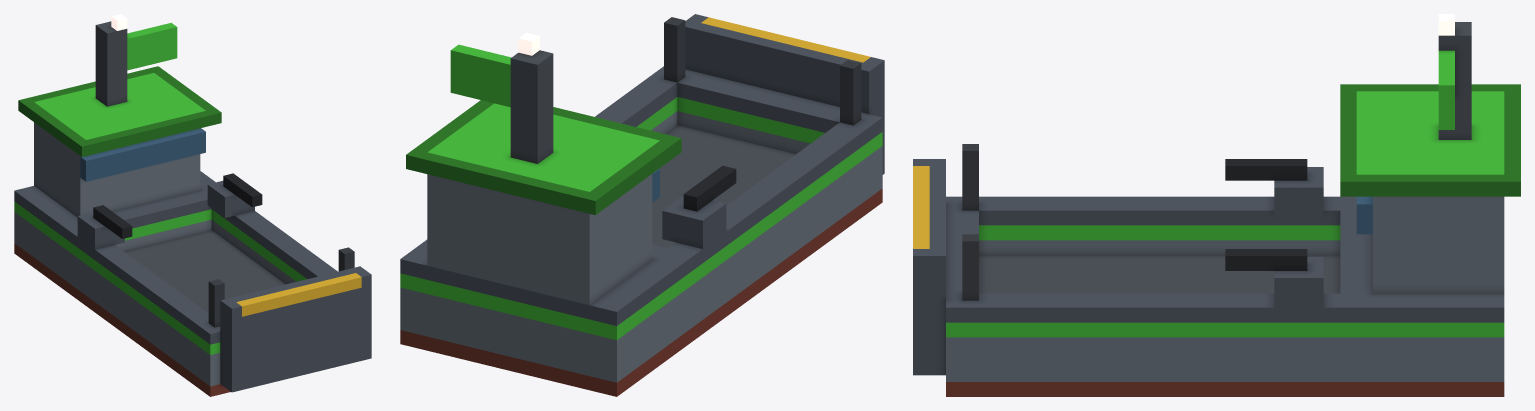
The model's file is cm_transport_3.glb.
3 views of the same model, side by side, from view 1: azimuth 30°, elevation 25°; view 2: azimuth 150°, elevation 25°; view 3: azimuth 270°, elevation 25° (orthographic). The views are drawn at different scales.
Parts seen in each view (by area): view 1: cm_transport_3_body; view 2: cm_transport_3_body; view 3: cm_transport_3_body.
Boxes of the visible parts, <box> form: cm_transport_3_body: <box>14,14,371,396</box>; cm_transport_3_body: <box>400,14,884,396</box>; cm_transport_3_body: <box>913,14,1520,396</box>.
Size of the model in its own units: 1 by 1.38 by 2.31.
1 material, 1 textured.
